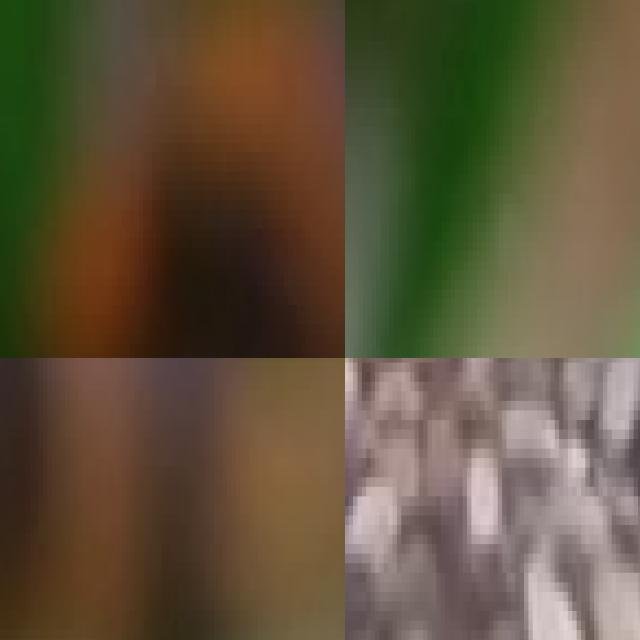fish: (0, 0, 345, 358), (0, 358, 345, 640)
